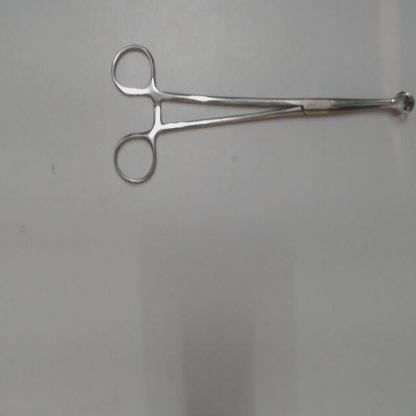8 Babcock Tissue Forceps: (104, 35, 416, 189)
